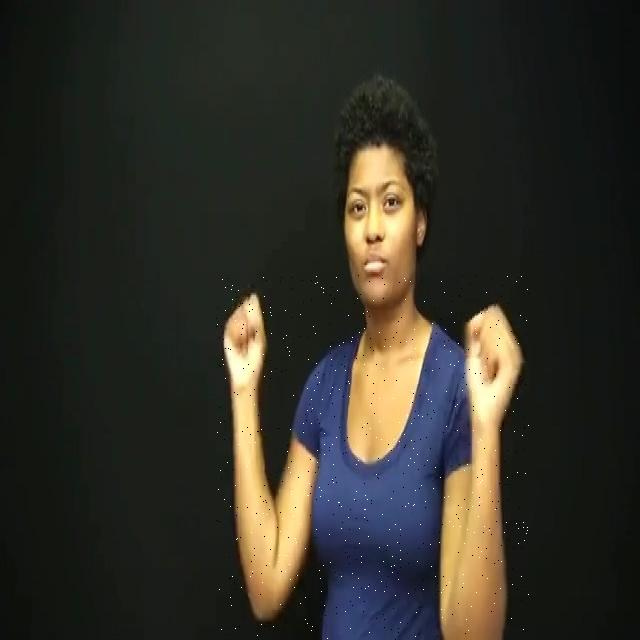cold: (216, 275, 530, 640)
